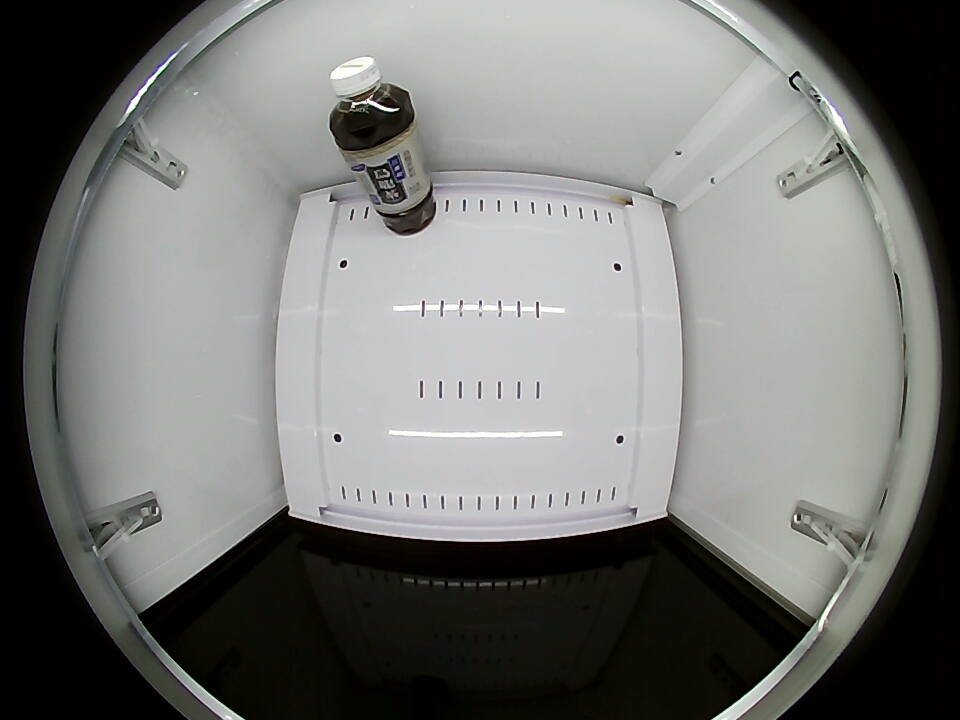wulongcha: (329, 56, 414, 143)
